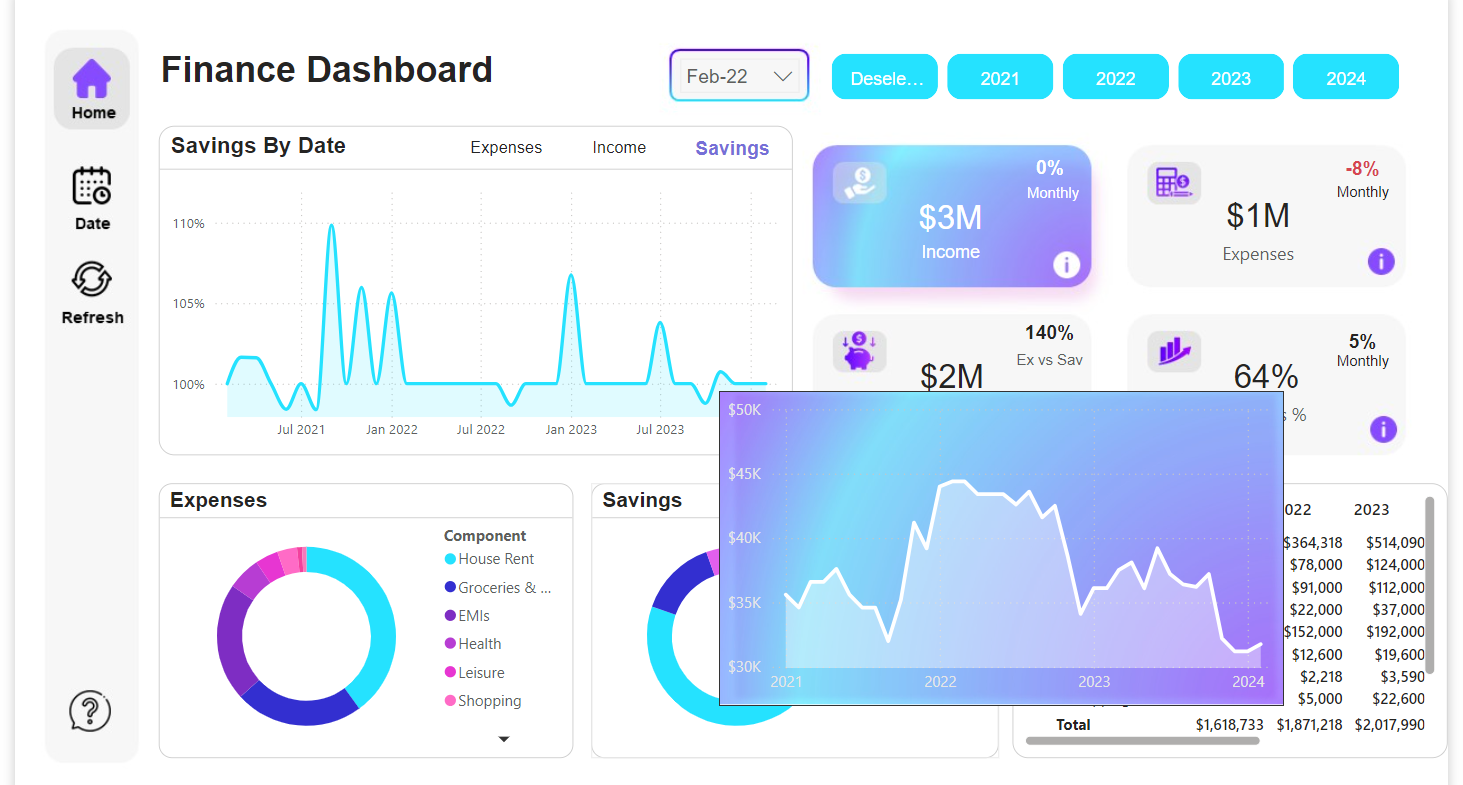

This screenshot's page, from the dashboard's own definition file:
{"tool":"powerbi","page":{"name":"Page 1","canvas":[1280,720],"ordinal":0},"visuals":[{"type":"card","fields":{"Values":["Dataset.Income"]},"box":[720.9,153.5,229.1,114],"z":0},{"type":"card","fields":{"Values":["Dataset.Savings"]},"box":[691.9,294.2,289.5,120.9],"z":1000},{"type":"card","fields":{"Values":["Dataset.Expenses"]},"box":[979.1,138.4,262.8,144.2],"z":2000},{"type":"card","fields":{"Values":["Dataset.Savings %"]},"box":[990.7,294.2,255.8,120.9],"z":3000},{"type":"advancedSlicerVisual","fields":{"Values":["Dataset.Yearr"]},"box":[725.2,50.6,518.6,52],"z":4000},{"type":"donutChart","title":"Savings","fields":{"Y":["Dataset.Savings"],"Category":["Dataset.Component"]},"box":[514.8,438.8,364,245.7],"z":5000},{"type":"donutChart","title":"Expenses","fields":{"Y":["Dataset.Expenses"],"Category":["Dataset.Component"]},"box":[128.4,438.8,370.7,245.7],"z":6000},{"type":"pivotTable","fields":{"Values":["Dataset.Total Value"],"Rows":["Dataset.Type","Dataset.Component"],"Columns":["Dataset.Yearr"]},"box":[891.1,438.8,388.6,245.7],"z":7000},{"type":"areaChart","fields":{"Category":["Dataset.Date"],"Y":["Dataset.Line_Chart_Measures"]},"box":[128.4,119.5,566.1,294.8],"z":8000},{"type":"advancedSlicerVisual","fields":{"Values":["Line_Selection_Table.Type"]},"box":[387.9,120.9,306.4,37.9],"z":9000},{"type":"slicer","fields":{"Values":["Selected_Date.Month-Yr"]},"box":[583.7,48.8,126.7,43],"z":10000},{"type":"card","fields":{"Values":["Dataset.Income Monthly Gr"]},"box":[879.8,130.7,89.9,54.8],"z":11000},{"type":"card","fields":{"Values":["Dataset.Savings Monthly Gr"]},"box":[1160.8,285.3,85.7,57.6],"z":12000},{"type":"card","fields":{"Values":["Dataset.Expenses Monthly Gr"]},"box":[1160.8,127.9,85.7,60.4],"z":13000},{"type":"card","fields":{"Values":["Dataset.Ex vs Sav"]},"box":[878.4,285.3,91.3,57.6],"z":14000},{"type":"textbox","box":[125.1,46.9,350.6,50.2],"z":15000},{"type":"textbox","box":[1175.8,164.1,80.4,30.1],"z":16000},{"type":"textbox","box":[898.9,165.3,80.4,30.1],"z":17000},{"type":"textbox","box":[1175.8,314.9,80.4,30.1],"z":18000},{"type":"actionButton","box":[39,148.9,62.2,47.7],"z":19000},{"type":"actionButton","box":[39,232.8,62.2,47.7],"z":21000}]}

Visuals, with their boxes on the page's 1280x720 design canvas (x1, y1, x2, y2). These are canvas units, not pixel positions in the 1463x785 screenshot, which may show the page scaled, cropped or inside an application window:
card - Dataset.Income: l=721, t=154, r=950, b=268
card - Dataset.Savings: l=692, t=294, r=981, b=415
card - Dataset.Expenses: l=979, t=138, r=1242, b=283
card - Dataset.Savings %: l=991, t=294, r=1246, b=415
advancedSlicerVisual - Dataset.Yearr: l=725, t=51, r=1244, b=103
"Savings" donutChart: l=515, t=439, r=879, b=684
"Expenses" donutChart: l=128, t=439, r=499, b=684
pivotTable - Dataset.Total Value x Dataset.Type: l=891, t=439, r=1280, b=684
areaChart - Dataset.Date x Dataset.Line_Chart_Measures: l=128, t=120, r=694, b=414
advancedSlicerVisual - Line_Selection_Table.Type: l=388, t=121, r=694, b=159
slicer - Selected_Date.Month-Yr: l=584, t=49, r=710, b=92
card - Dataset.Income Monthly Gr: l=880, t=131, r=970, b=186
card - Dataset.Savings Monthly Gr: l=1161, t=285, r=1246, b=343
card - Dataset.Expenses Monthly Gr: l=1161, t=128, r=1246, b=188
card - Dataset.Ex vs Sav: l=878, t=285, r=970, b=343
textbox: l=125, t=47, r=476, b=97
textbox: l=1176, t=164, r=1256, b=194
textbox: l=899, t=165, r=979, b=195
textbox: l=1176, t=315, r=1256, b=345
actionButton: l=39, t=149, r=101, b=197
actionButton: l=39, t=233, r=101, b=280
